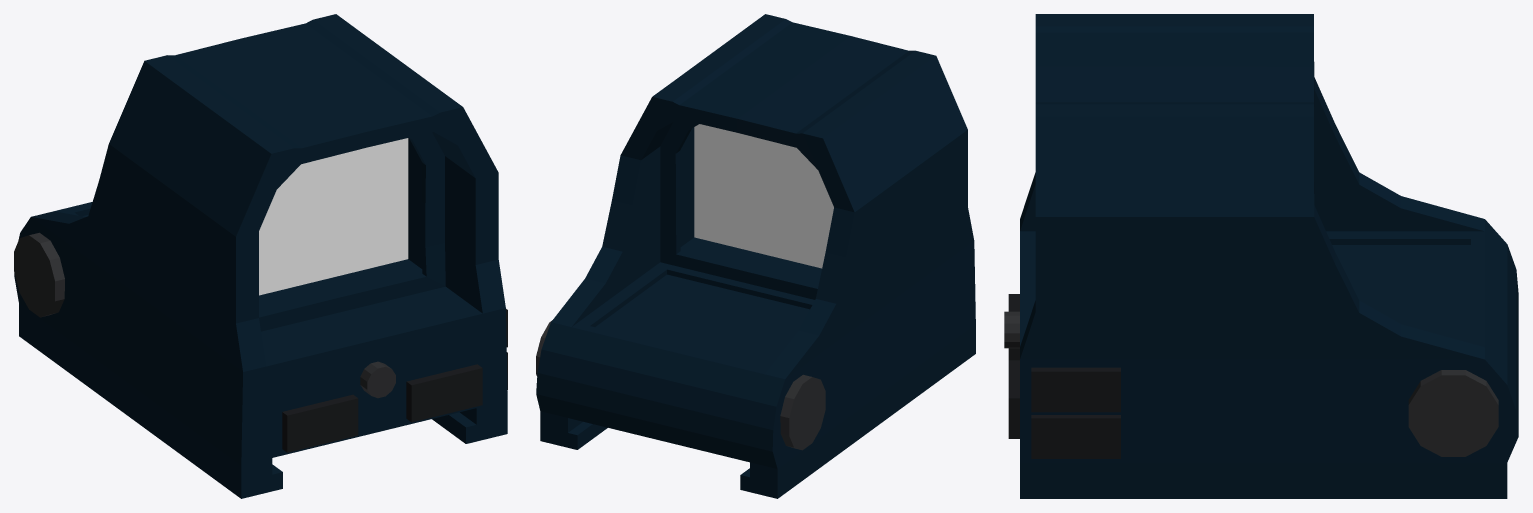
The model's file is Exp3.glb.
3 renders of one model, left to right at view 1: azimuth 30°, elevation 25°; view 2: azimuth 150°, elevation 25°; view 3: azimuth 270°, elevation 25°, orthographic. The views are drawn at different scales.
Parts seen in each view (by area): view 1: Main Body, Screen, cylinder, Button.002, Button.003, cylinder.001; view 2: Main Body, Screen, cylinder; view 3: Main Body, cylinder, Button.001, Button, Button.003, cylinder.001.
Part boxes in pixels (left/top/right/bottom): Main Body: left=14, top=14, right=507, bottom=498; Screen: left=259, top=138, right=408, bottom=295; cylinder: left=14, top=232, right=64, bottom=317; Button.002: left=282, top=394, right=358, bottom=452; Button.003: left=406, top=364, right=482, bottom=422; cylinder.001: left=360, top=361, right=395, bottom=398; Main Body: left=536, top=14, right=975, bottom=498; Screen: left=694, top=124, right=833, bottom=268; cylinder: left=536, top=320, right=825, bottom=450; Main Body: left=1020, top=14, right=1518, bottom=498; cylinder: left=1408, top=370, right=1498, bottom=456; Button.001: left=1031, top=367, right=1120, bottom=412; Button: left=1031, top=415, right=1120, bottom=458; Button.003: left=1008, top=360, right=1019, bottom=438; cylinder.001: left=1004, top=311, right=1019, bottom=348.
Bounding box in the file's own units: 1 × 1.11 × 1.43.
